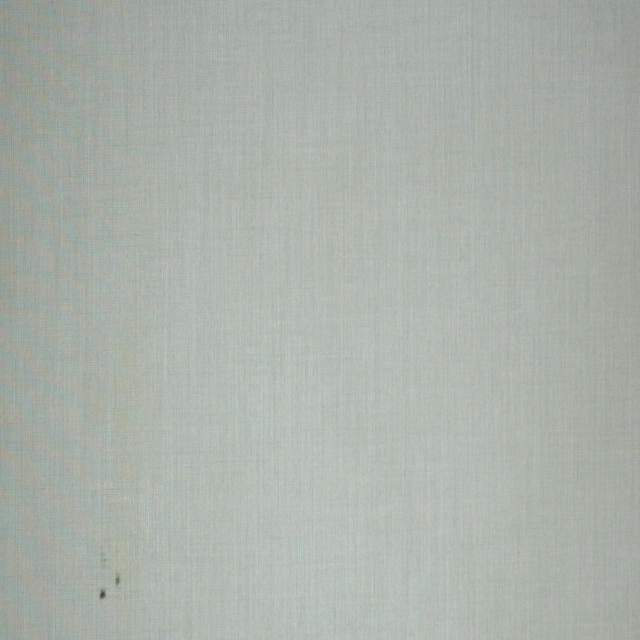dirty: (99, 588, 106, 601), (115, 574, 121, 587)
